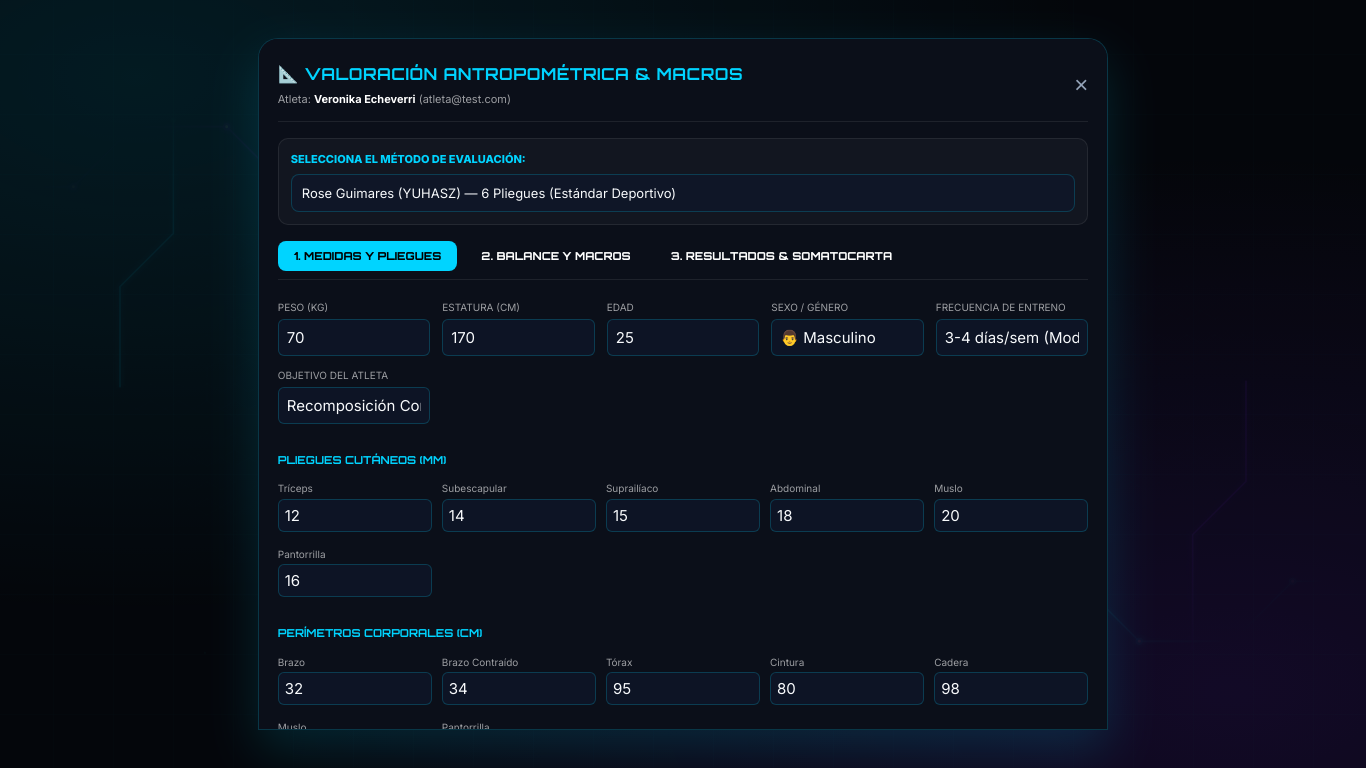
Test case: AnthropometryModal Component › permite cambiar de método antropométrico en el desplegable
Select "Método Avanzado (ISAK 5 Componentes / Pliegues + Perímetros + Diámetros)" in the dropdown below "SELECCIONA EL MÉTODO DE EVALUACIÓN:" at (683, 193), box [291,174,1075,212]
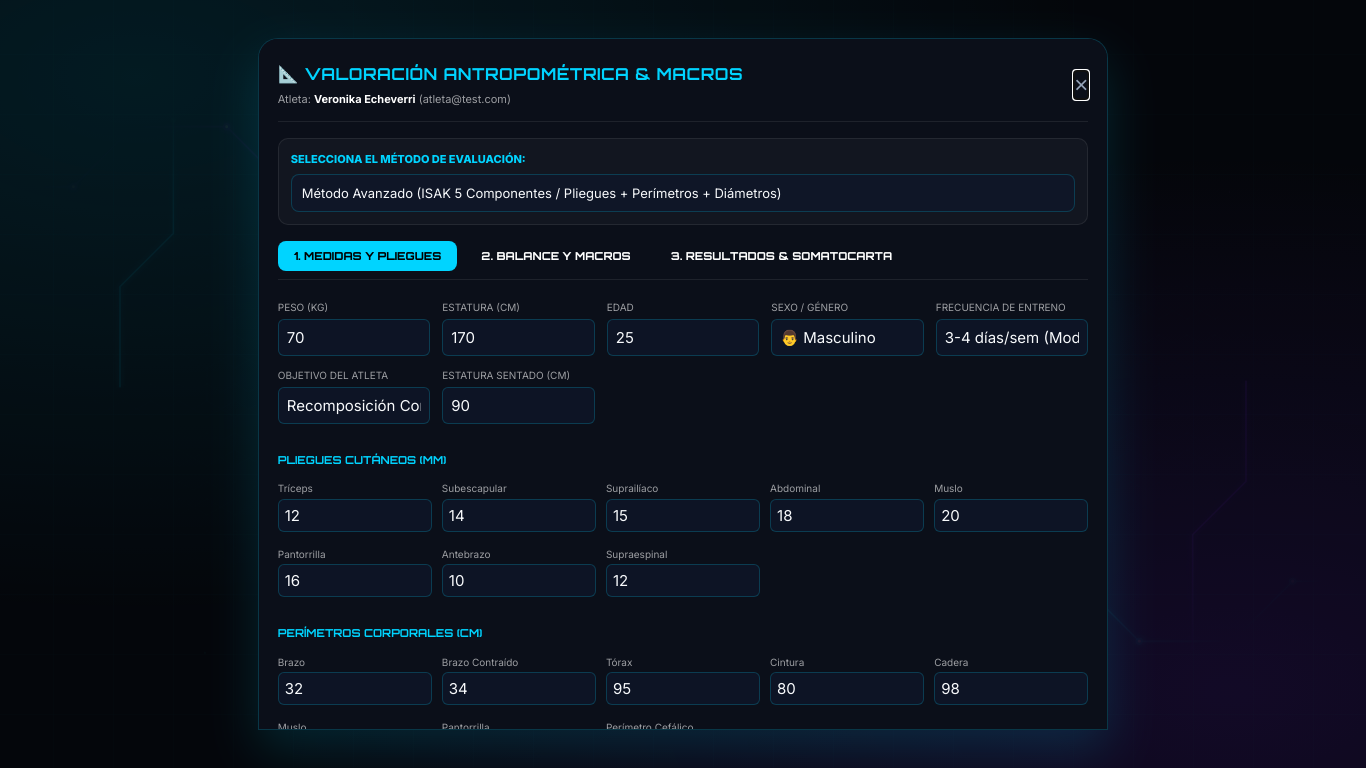
Result: the text "ESTATURA SENTADO (CM)" is shown at [442,369,570,381]
